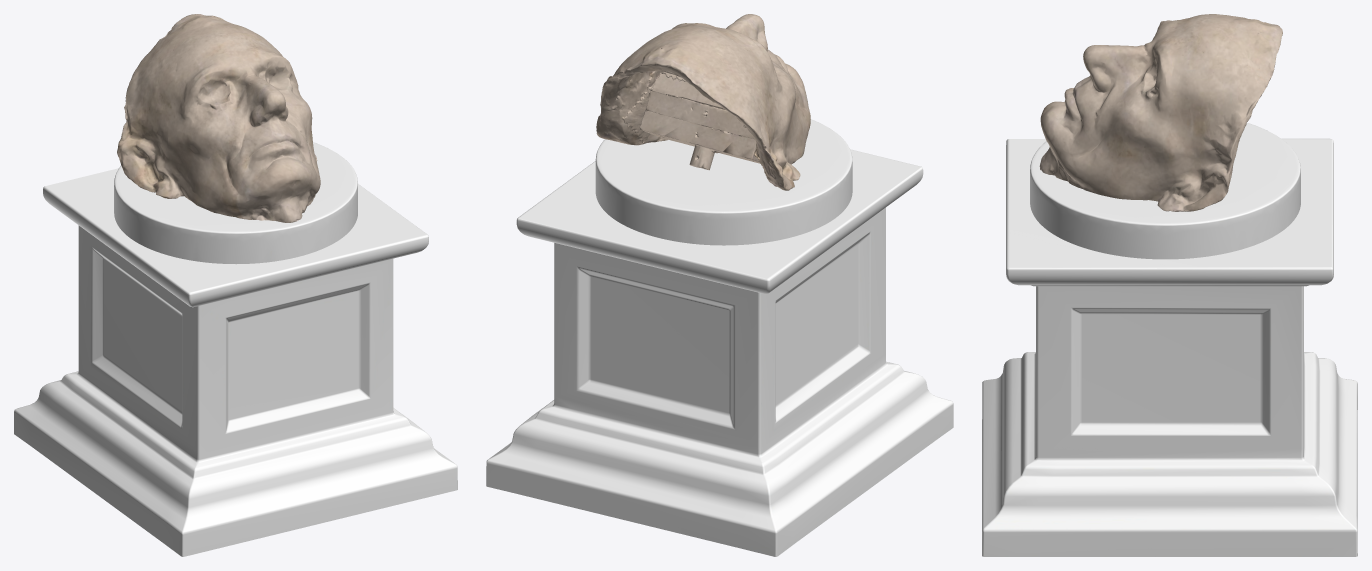
File: artifact-3_aero-optimized.glb
3 views of the same model, side by side, from view 1: azimuth 30°, elevation 25°; view 2: azimuth 150°, elevation 25°; view 3: azimuth 270°, elevation 25° (orthographic). The views are drawn at different scales.
Parts seen in each view (by area): view 1: object 1, Artifact 3 3D Object; view 2: object 1, Artifact 3 3D Object; view 3: object 1, Artifact 3 3D Object.
Boxes of the visible parts, bbox=[...] form: object 1: bbox=[14, 142, 457, 556]; Artifact 3 3D Object: bbox=[117, 14, 320, 222]; object 1: bbox=[486, 119, 953, 556]; Artifact 3 3D Object: bbox=[596, 14, 810, 190]; object 1: bbox=[982, 122, 1357, 556]; Artifact 3 3D Object: bbox=[1039, 14, 1282, 211].
Size of the model in its own units: 0.3194 by 0.4592 by 0.3383.
2 materials, 2 textured.
